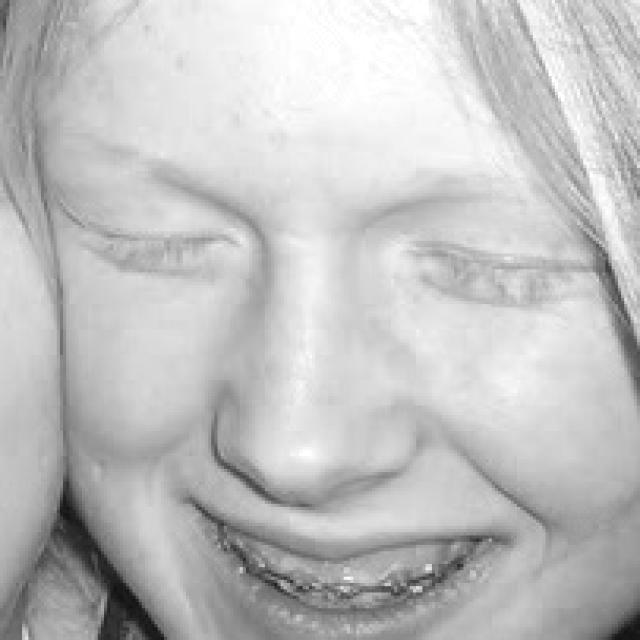real: (56, 24, 626, 620), (70, 176, 611, 328)
